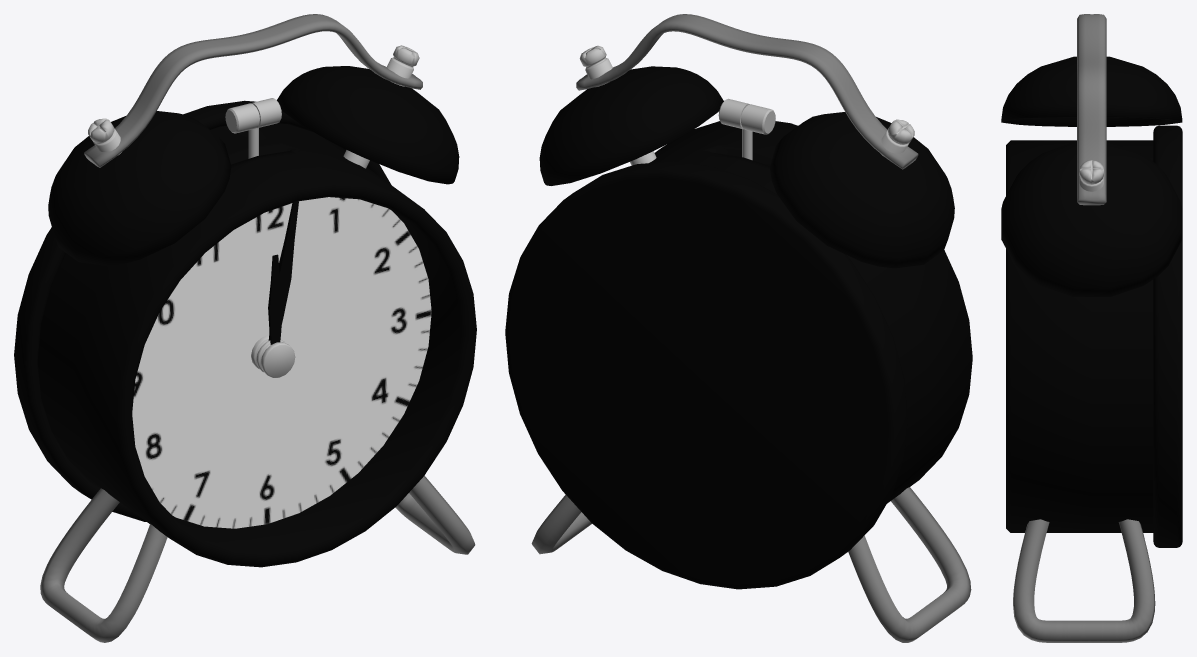
Rendered from Reloj_Despertador.fbx.
The picture shows the model from 3 angles, left to right: view 1: azimuth 30°, elevation 25°; view 2: azimuth 150°, elevation 25°; view 3: azimuth 270°, elevation 25°; orthographic projection. The views are drawn at different scales.
Parts seen in each view (by area): view 1: Reloj, Aguja, Aguja.001; view 2: Reloj; view 3: Reloj.
Part boxes in pixels (x1,y1,x2,y2): Reloj: (14, 14, 476, 642); Aguja: (268, 201, 298, 340); Aguja.001: (268, 254, 282, 344); Reloj: (505, 14, 972, 642); Reloj: (1001, 14, 1182, 642).
Size of the model in its own units: 0.086 by 0.1154 by 0.0369.
